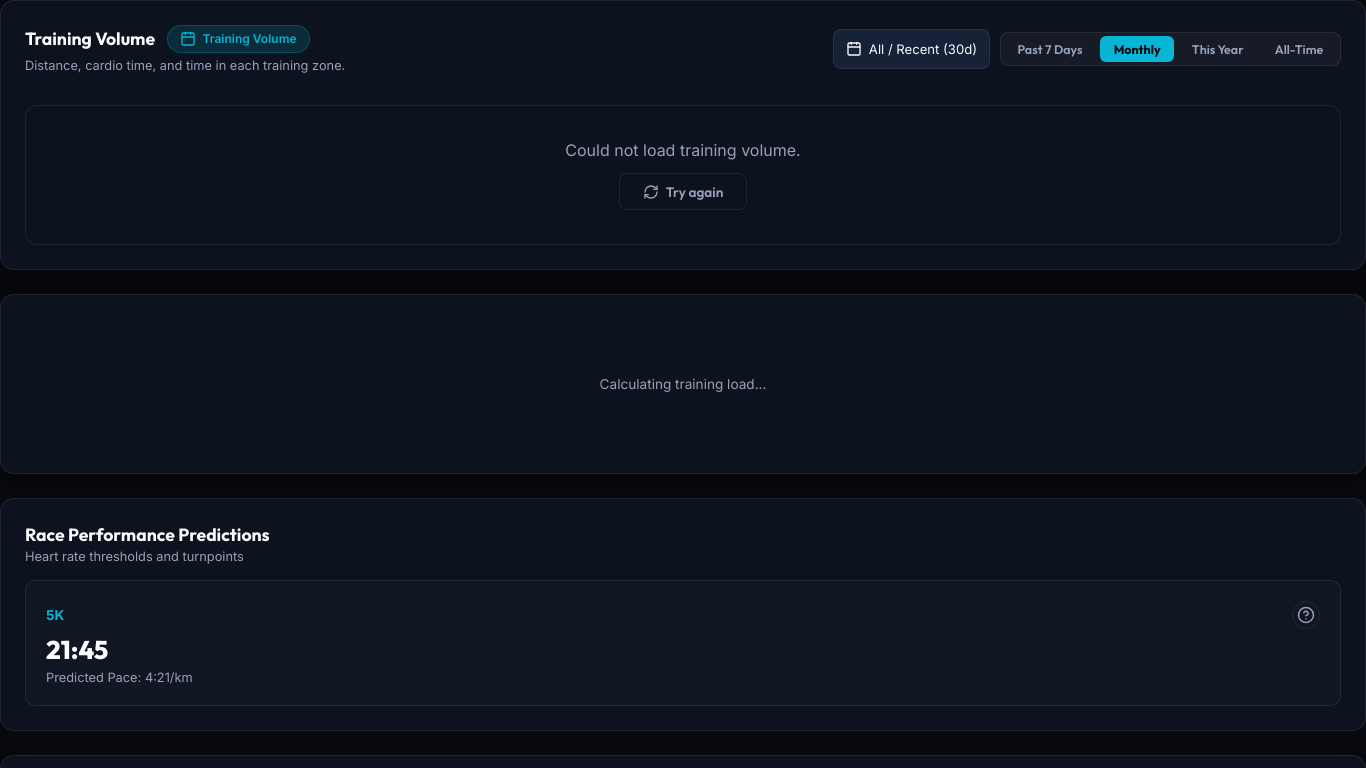
Test: StatsView UI Tests › allows the training volume card to retry independently
The image size is (1366, 768).
Check: the text "Could not load training volume." is shown, box [565, 140, 801, 160]
Click the button "Try again": coordinates (683, 192) [619, 173, 747, 210]
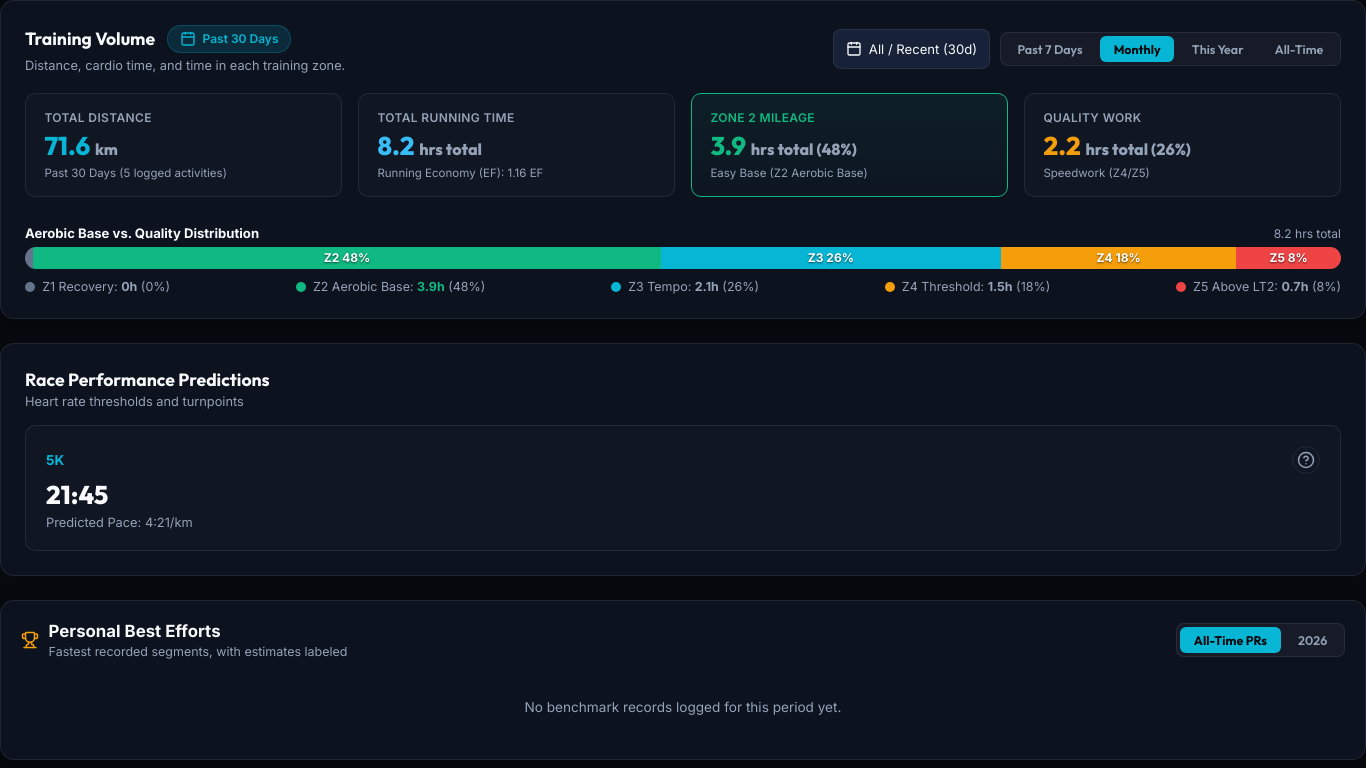
Check: the text "Total Distance" is shown, box [44, 110, 152, 125]
